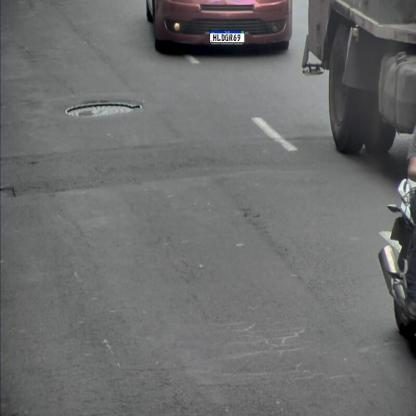PlacaM: (209, 30, 245, 43)
